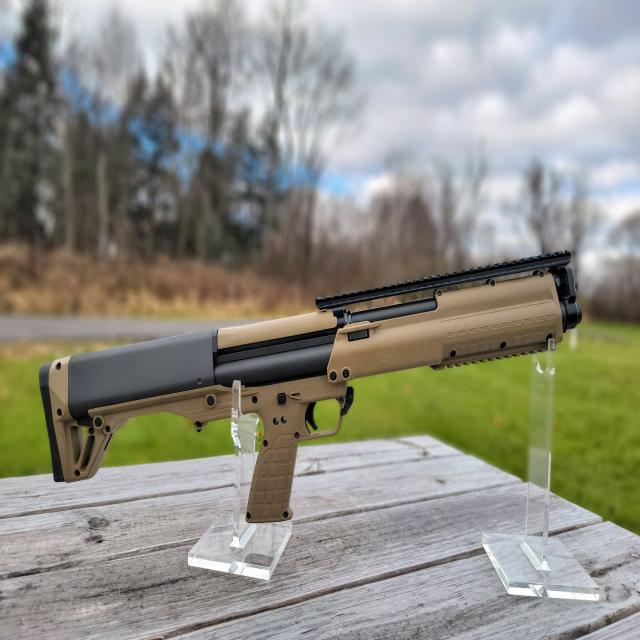ShotGun: (38, 253, 583, 544)
